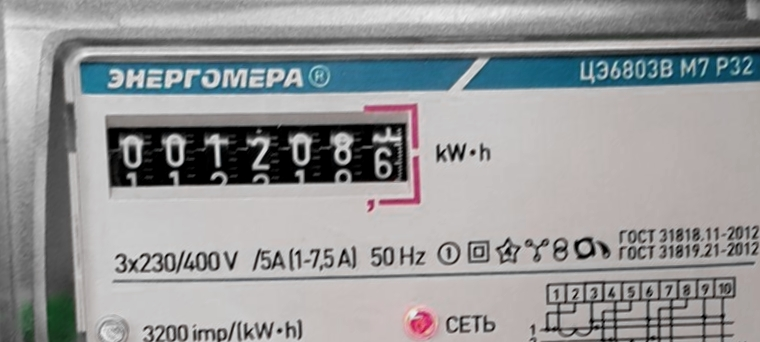0: (116, 129, 144, 169), (160, 129, 185, 167), (285, 128, 310, 165)
1: (202, 128, 225, 168)
2: (244, 132, 272, 170)
6: (368, 142, 392, 179)
8: (326, 127, 353, 165)
screen: (95, 93, 428, 220)
